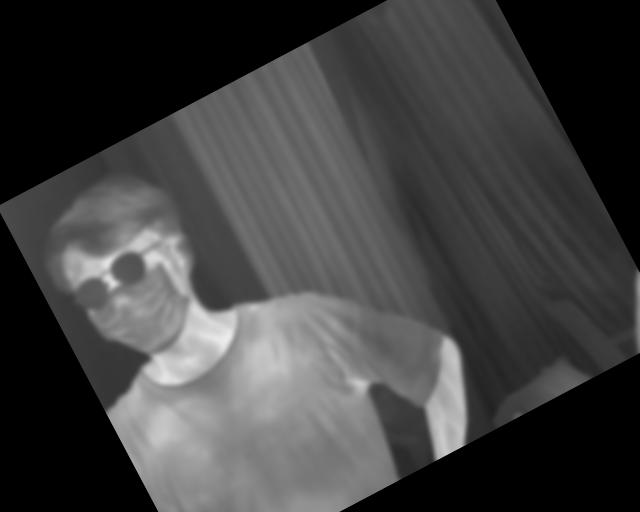face: (25, 154, 233, 380)
